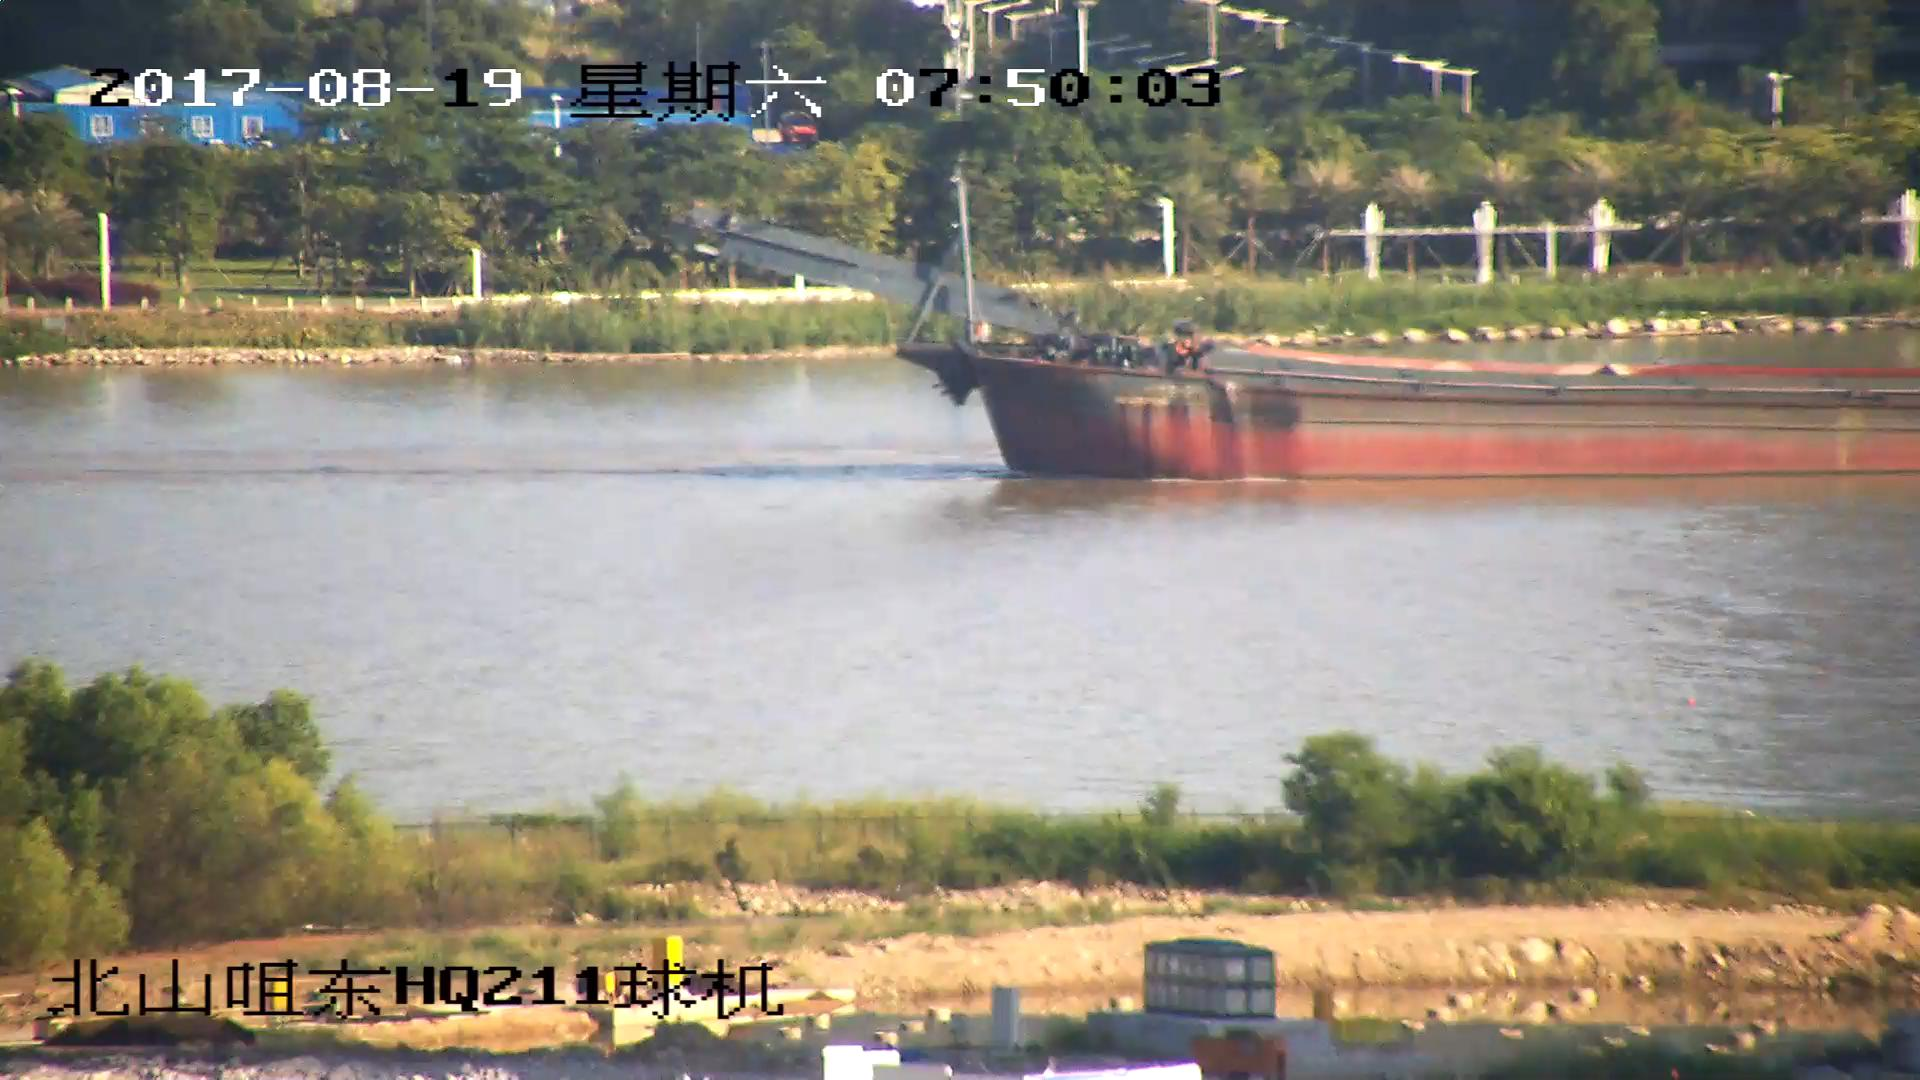bulk cargo carrier: (687, 174, 1920, 479)
